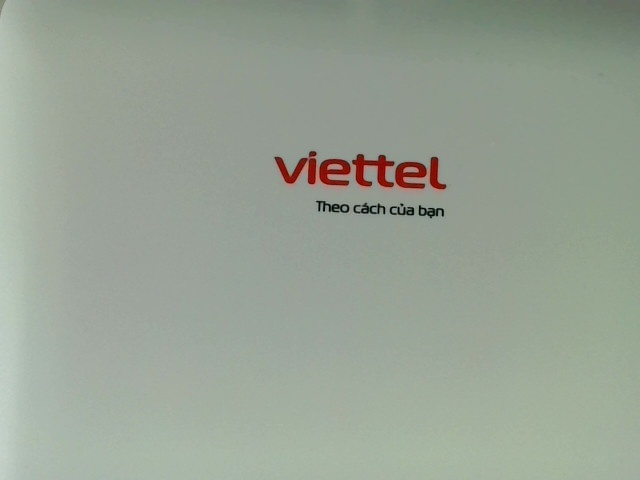AY_Viettel: (270, 143, 454, 219)
